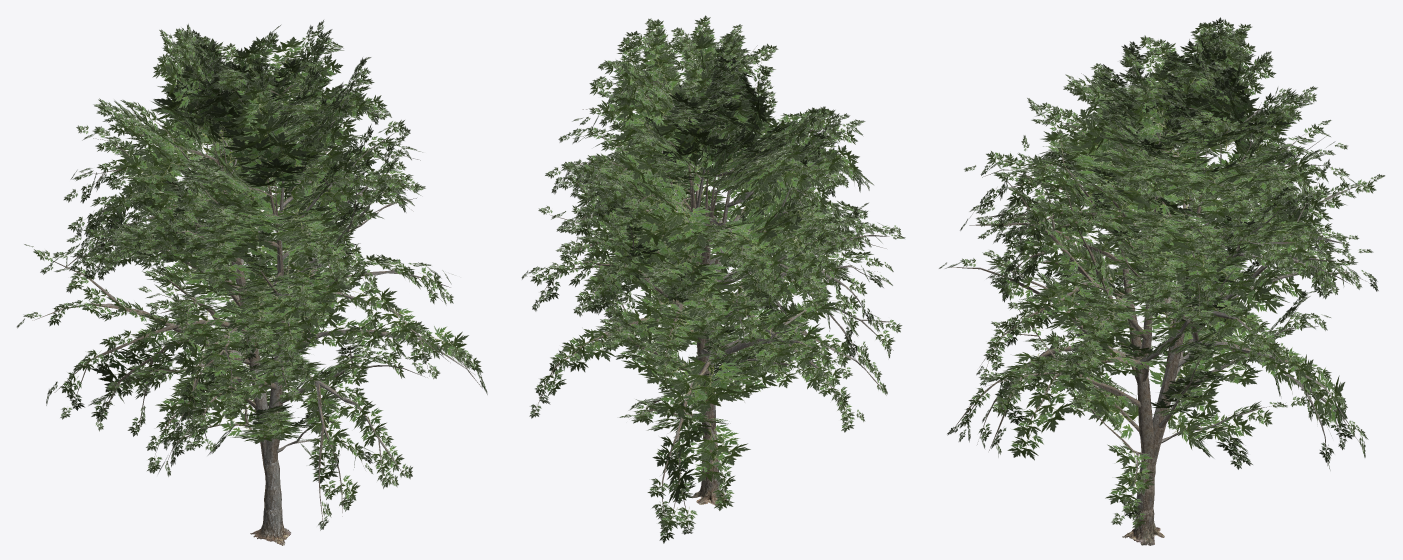
Rendered from maple_tree.glb.
3 views of the same model, side by side, from view 1: azimuth 30°, elevation 25°; view 2: azimuth 150°, elevation 25°; view 3: azimuth 270°, elevation 25° (orthographic). The views are drawn at different scales.
Visible parts, largest first — view 1: MapleTreeLOD0; view 2: MapleTreeLOD0; view 3: MapleTreeLOD0.
Boxes of the visible parts, x1,y1,x2,y2 form: MapleTreeLOD0: (16, 20, 487, 545); MapleTreeLOD0: (521, 15, 905, 543); MapleTreeLOD0: (939, 17, 1385, 545).
Size of what is drawn, in the model's own units: 12.76 by 16.6 by 13.55.
3 materials, 3 textured.
